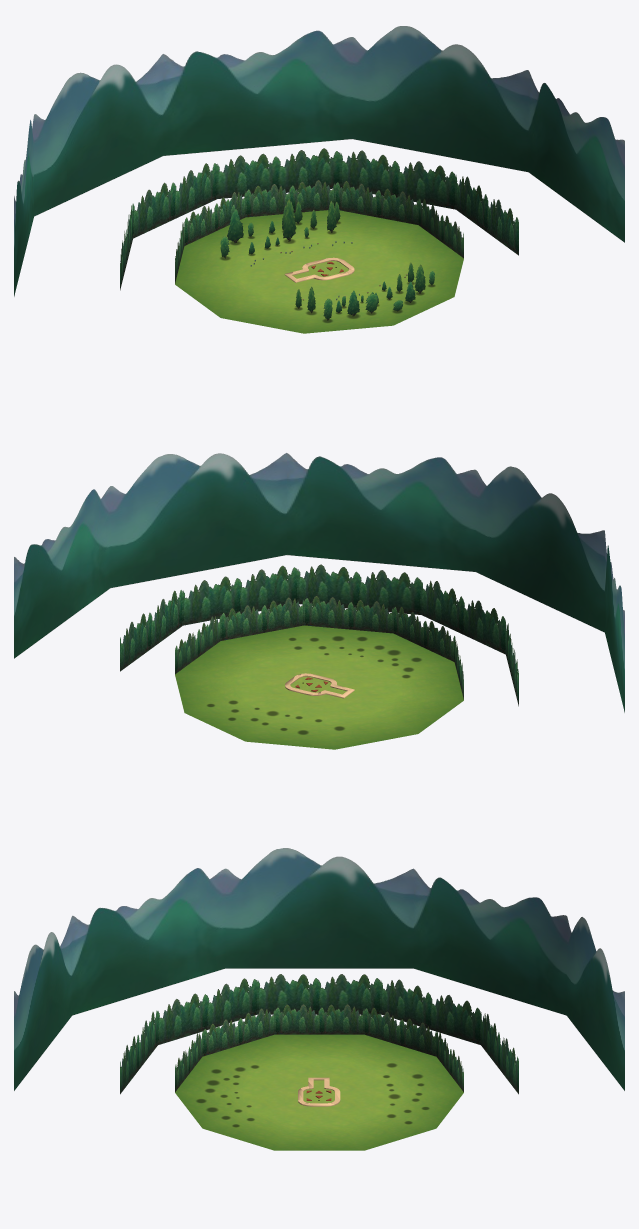
File: hole15.glb
3 renders of one model, top to bottom at view 1: azimuth 30°, elevation 25°; view 2: azimuth 150°, elevation 25°; view 3: azimuth 270°, elevation 25°, orthographic. The views are drawn at different scales.
Parts seen in each view (by area): view 1: background1, grass_base, background3, background2, edges1; view 2: background1, grass_base, background3, background2, edges1; view 3: background1, grass_base, background3, background2, edges1, grass1.
Boxes of the visible parts, x1,y1,x2,y2 form: background1: [14, 26, 624, 296]; grass_base: [175, 210, 463, 333]; background3: [120, 148, 518, 290]; background2: [175, 180, 463, 283]; edges1: [284, 257, 354, 282]; background1: [14, 453, 624, 712]; grass_base: [175, 625, 463, 749]; background3: [120, 564, 518, 706]; background2: [175, 596, 463, 699]; edges1: [285, 673, 354, 698]; background1: [14, 848, 624, 1090]; grass_base: [175, 1034, 463, 1150]; background3: [120, 974, 518, 1094]; background2: [175, 1004, 463, 1091]; edges1: [298, 1077, 340, 1106]; grass1: [303, 1080, 334, 1103].
Size of what is drawn, in the model's own units: 330 by 78.81 by 347.
Materials: 10 (9 with a texture image).
